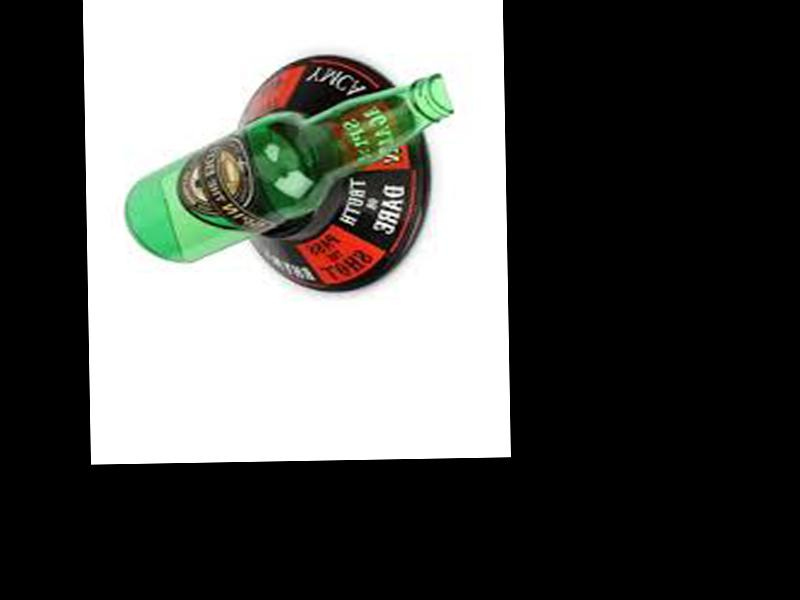Beer: (123, 75, 456, 266)
